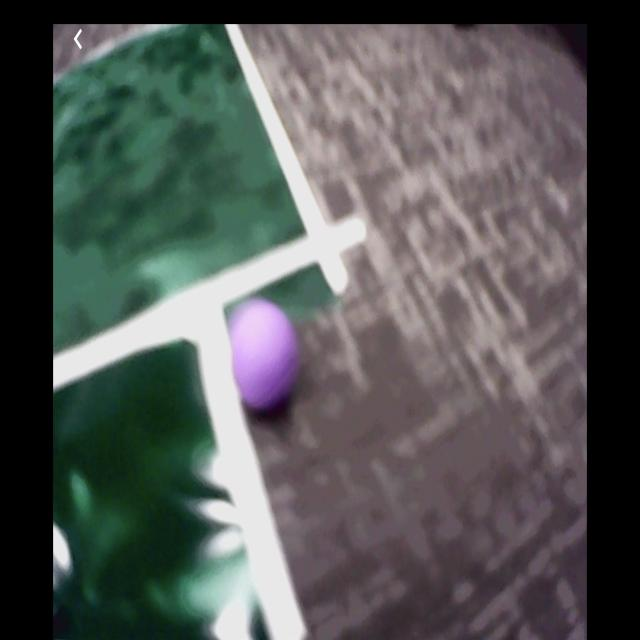ball: (231, 299, 300, 412)
